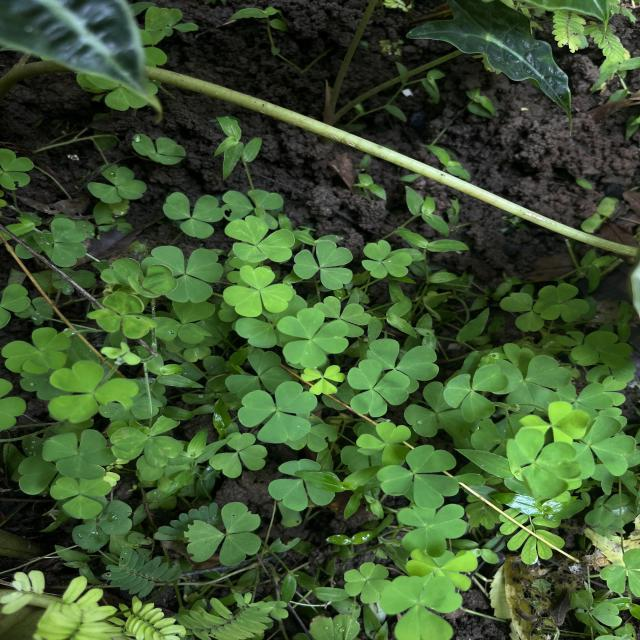Oxalis corniculata: (48, 359, 140, 424), (378, 574, 463, 640), (376, 444, 459, 511), (181, 501, 263, 567), (237, 381, 318, 444), (141, 245, 224, 304), (277, 307, 350, 367), (570, 414, 636, 480), (41, 428, 118, 481), (506, 354, 573, 414), (397, 502, 468, 558), (443, 364, 509, 424), (110, 415, 183, 468), (268, 458, 339, 512), (221, 264, 294, 316), (347, 358, 410, 418), (85, 290, 158, 339), (223, 215, 296, 263), (293, 240, 354, 290), (162, 191, 225, 239), (49, 473, 112, 520), (208, 431, 268, 478), (87, 163, 148, 204), (570, 331, 632, 368), (342, 561, 392, 604), (539, 282, 590, 323), (361, 239, 413, 279), (131, 132, 186, 165), (0, 147, 35, 191), (300, 364, 346, 396)
